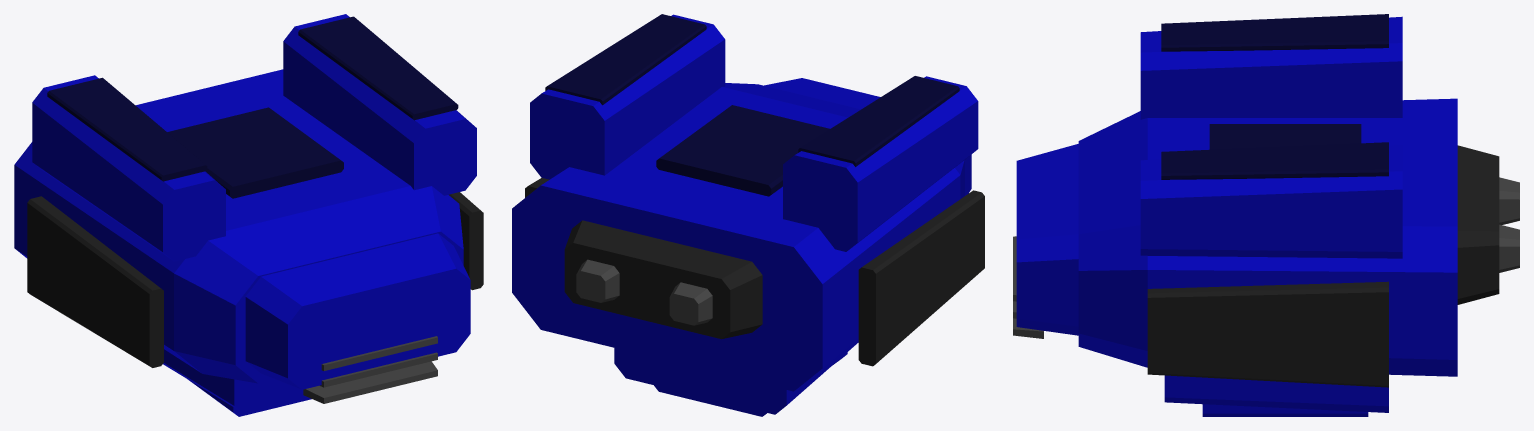
File: Body_Fortress.obj
3 renders of one model, left to right at view 1: azimuth 30°, elevation 25°; view 2: azimuth 150°, elevation 25°; view 3: azimuth 270°, elevation 25°, orthographic. The views are drawn at different scales.
Parts seen in each view (by area): view 1: blue, navy, dark, gray; view 2: blue, dark, navy, gray; view 3: blue, dark, navy, gray.
Boxes of the visible parts, x1,y1,x2,y2 form: blue: (14,14,476,416); navy: (47,16,458,198); dark: (27,192,483,367); gray: (303,336,437,403); blue: (512,14,978,416); dark: (525,178,984,366); navy: (545,14,959,196); gray: (576,259,712,325); blue: (1016,16,1457,416); dark: (1147,145,1499,387); navy: (1161,14,1388,179); gray: (1013,177,1519,338).
Bounding box in the file's own units: 1.22 × 0.957 × 1.47.
